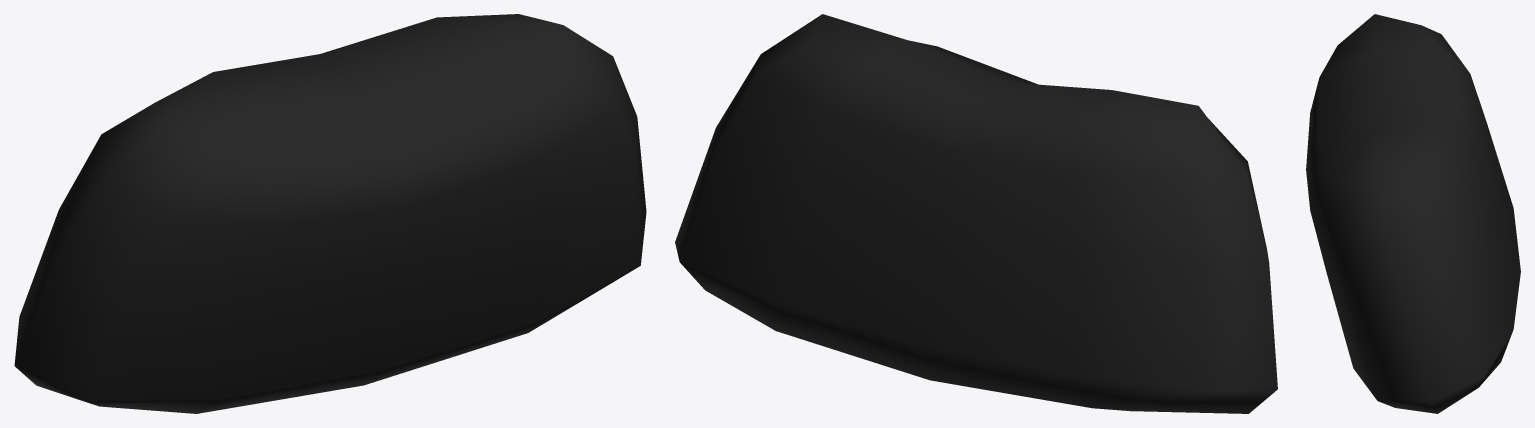
The model's file is Mustache_Black_006.glb.
3 renders of one model, left to right at view 1: azimuth 30°, elevation 25°; view 2: azimuth 150°, elevation 25°; view 3: azimuth 270°, elevation 25°, orthographic. The views are drawn at different scales.
Visible parts, largest first — view 1: Mustache_Black_006; view 2: Mustache_Black_006; view 3: Mustache_Black_006.
Part boxes in pixels (x1,y1,x2,y2): Mustache_Black_006: [14, 14, 646, 413]; Mustache_Black_006: [675, 14, 1277, 413]; Mustache_Black_006: [1306, 14, 1520, 413].
Size of the model in its own units: 0.1398 by 0.0664 by 0.0524.
Materials: 1 (1 with a texture image).
